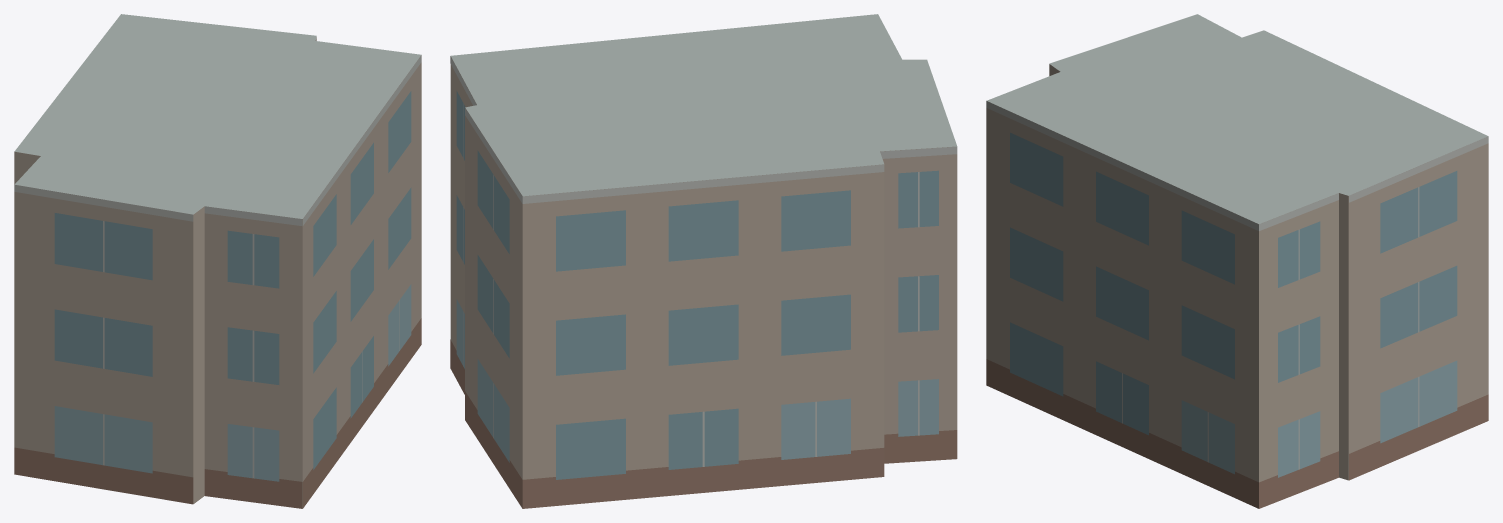
Rendered from survey-upis-32627740.glb.
3 views of the same model, side by side, from view 1: azimuth 30°, elevation 25°; view 2: azimuth 150°, elevation 25°; view 3: azimuth 270°, elevation 25° (orthographic). The views are drawn at different scales.
Visible parts, largest first — view 1: survey-upis-32627740.tmp; view 2: survey-upis-32627740.tmp; view 3: survey-upis-32627740.tmp.
Part boxes in pixels (x1,y1,x2,y2): survey-upis-32627740.tmp: (14, 14, 421, 508); survey-upis-32627740.tmp: (450, 14, 957, 508); survey-upis-32627740.tmp: (986, 14, 1488, 508).
Size of the model in its own units: 15.69 by 9.9 by 15.83.
